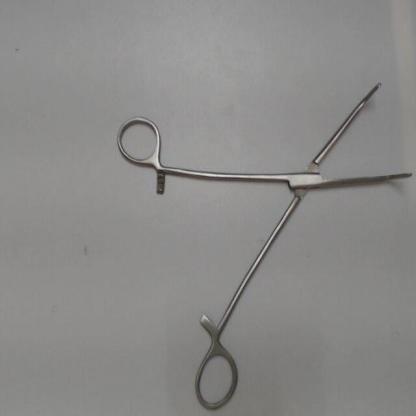Lahey Forceps: (111, 75, 414, 414)
